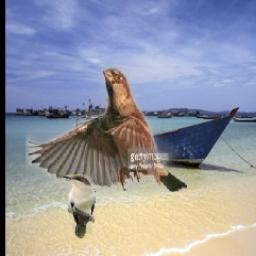Cuckoo: (62, 174, 96, 238)
Sparrow: (25, 68, 187, 193)
